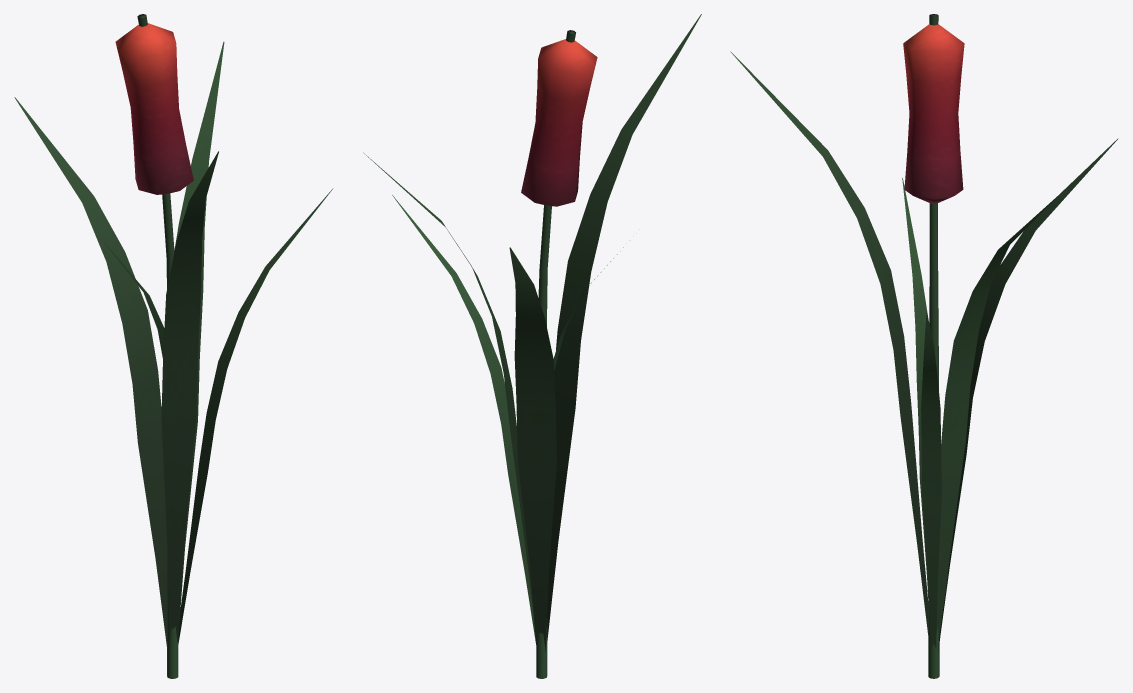
File: cattail_3.fbx
3 renders of one model, left to right at view 1: azimuth 30°, elevation 25°; view 2: azimuth 150°, elevation 25°; view 3: azimuth 270°, elevation 25°, orthographic. The views are drawn at different scales.
Parts seen in each view (by area): view 1: cattail_1; view 2: cattail_1; view 3: cattail_1.
Boxes of the visible parts, x1,y1,x2,y2 form: cattail_1: (14,14,333,678); cattail_1: (363,14,701,678); cattail_1: (730,14,1118,678).
Bounding box in the file's own units: 85.23 × 222 × 121.
